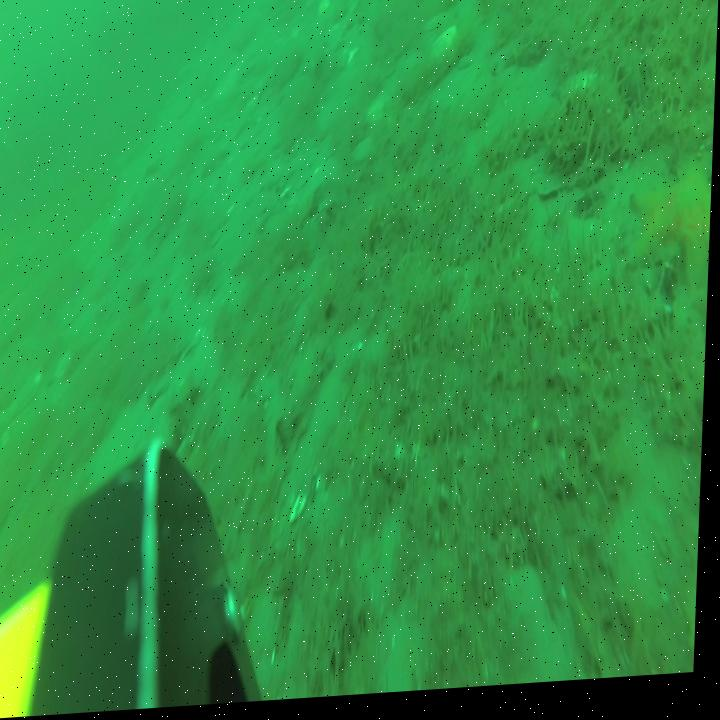scallop: (506, 565, 582, 692), (13, 367, 45, 417), (431, 32, 458, 66), (364, 101, 388, 134), (353, 140, 377, 166)
starfish: (629, 179, 713, 285)
